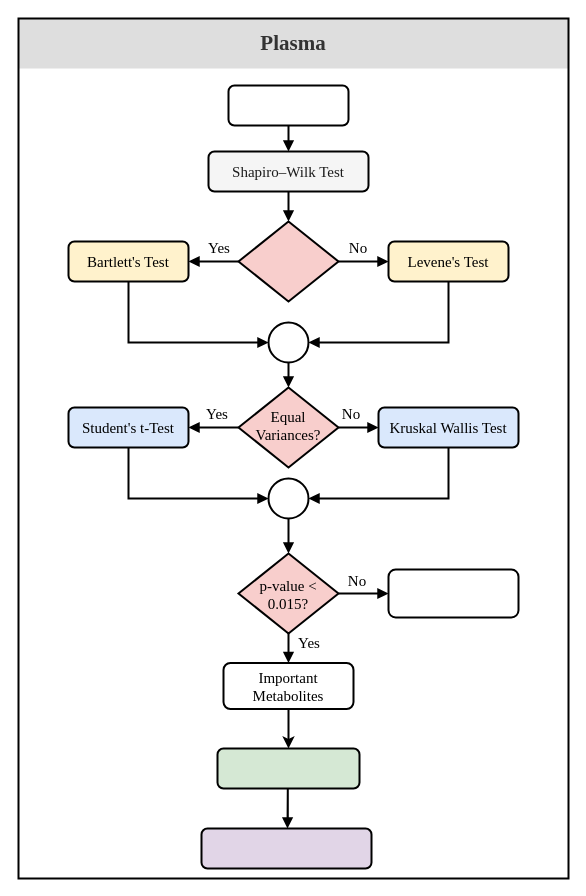
This 586x896 diagram has some shape labels left out. The centre of each missing label's shape, as x and y in pixels:
"Less Important Metabolites" goes at pixel 453 593.
"Normally Distributed?" goes at pixel 288 261.
"Plasma Sample" goes at pixel 288 105.
"Recursive Feature Elimination" goes at pixel 288 768.
"Ridge Classifier" goes at pixel 286 848.
